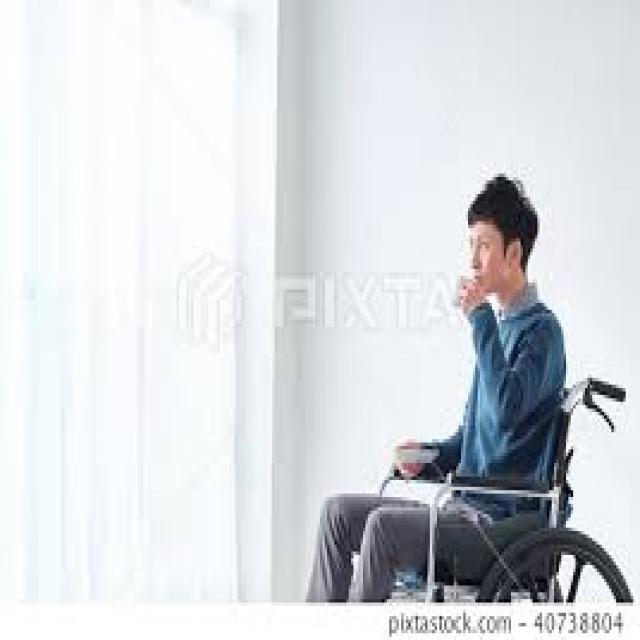wheelchairs: (368, 361, 635, 599)
